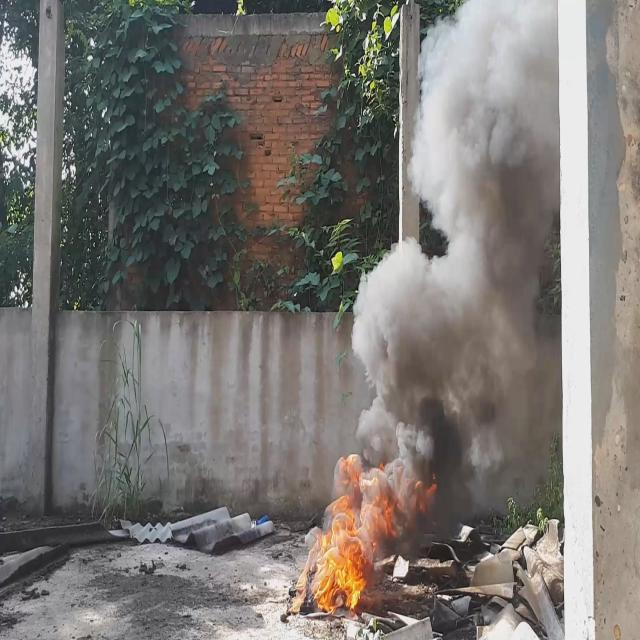Fire: (315, 458, 435, 612)
Smoke: (350, 0, 557, 543)
